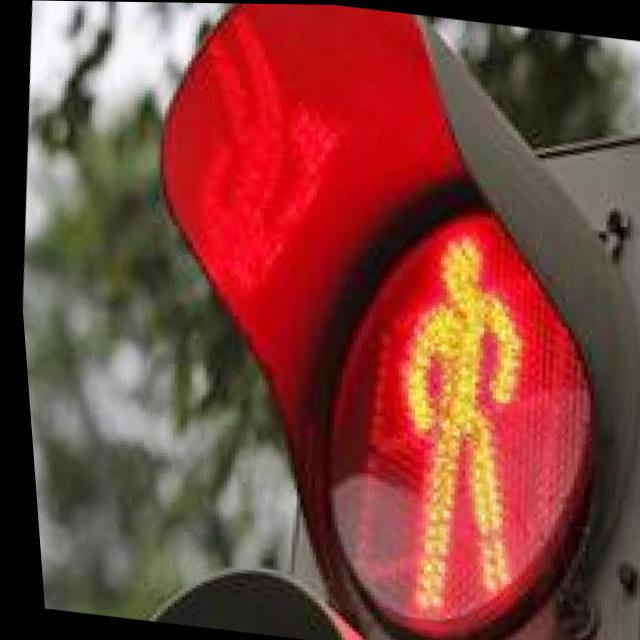red_light: (179, 109, 640, 640)
